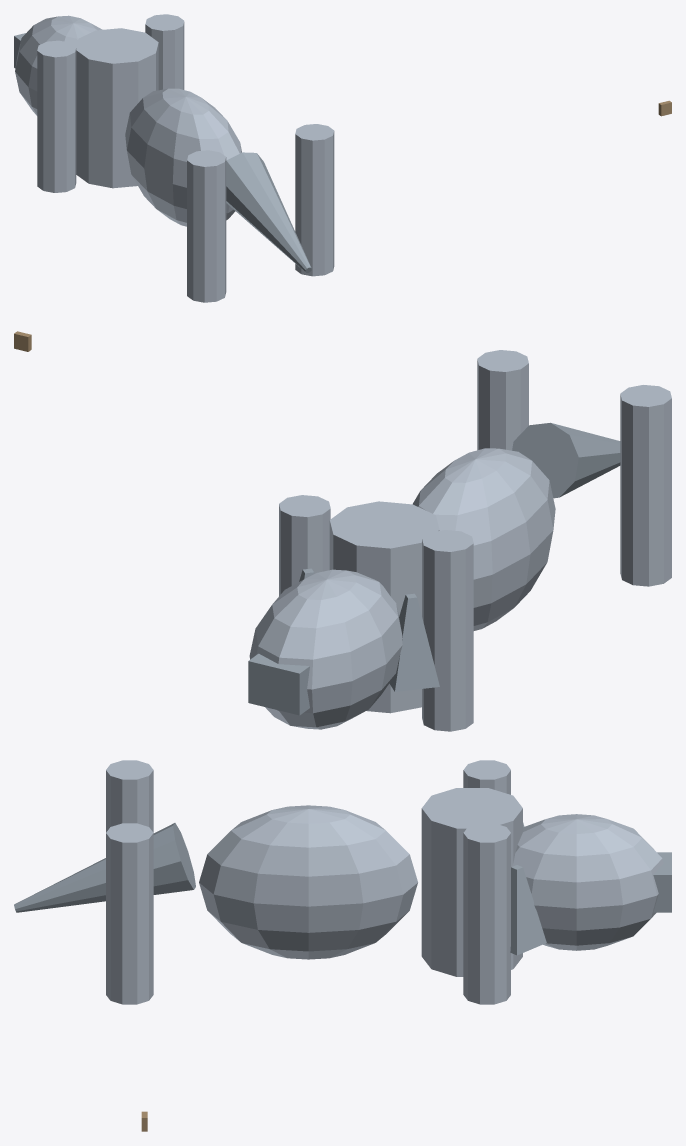
Rendered from animal_kyma.glb.
The picture shows the model from 3 angles, top to bottom: view 1: azimuth 30°, elevation 25°; view 2: azimuth 150°, elevation 25°; view 3: azimuth 270°, elevation 25°; orthographic projection. The views are drawn at different scales.
Visible parts, largest first — view 1: kyma_neck.002, kyma_body.002, kyma_leg_FL.002, kyma_leg_BL.002, kyma_leg_BR.002, kyma_tail.002, kyma_head.002, kyma_leg_FR.002; view 2: kyma_head.002, kyma_body.002, kyma_leg_BL.002, kyma_leg_FL.002, kyma_neck.002, kyma_tail.002, kyma_leg_BR.002, kyma_leg_FR.002, kyma_mukon.002, kyma_telinga_l.002; view 3: kyma_body.002, kyma_head.002, kyma_neck.002, kyma_leg_BR.002, kyma_leg_FR.002, kyma_tail.002, kyma_leg_BL.002, kyma_telinga_r.002, kyma_leg_FL.002, kyma_mukon.002.
Part boxes in pixels (bbox=[...]): kyma_neck.002: bbox=[76, 28, 158, 188]; kyma_body.002: bbox=[125, 88, 241, 226]; kyma_leg_FL.002: bbox=[37, 40, 76, 192]; kyma_leg_BL.002: bbox=[187, 150, 226, 302]; kyma_leg_BR.002: bbox=[295, 124, 334, 276]; kyma_tail.002: bbox=[226, 152, 311, 272]; kyma_head.002: bbox=[15, 15, 102, 115]; kyma_leg_FR.002: bbox=[145, 14, 184, 90]; kyma_head.002: bbox=[249, 569, 402, 729]; kyma_body.002: bbox=[413, 448, 555, 630]; kyma_leg_BL.002: bbox=[620, 385, 671, 586]; kyma_leg_FL.002: bbox=[422, 530, 473, 731]; kyma_neck.002: bbox=[329, 501, 439, 713]; kyma_tail.002: bbox=[512, 422, 620, 498]; kyma_leg_BR.002: bbox=[477, 350, 528, 450]; kyma_leg_FR.002: bbox=[279, 495, 330, 595]; kyma_mukon.002: bbox=[248, 653, 309, 715]; kyma_telinga_l.002: bbox=[389, 593, 439, 691]; kyma_body.002: bbox=[199, 805, 417, 959]; kyma_head.002: bbox=[512, 814, 663, 950]; kyma_neck.002: bbox=[421, 788, 522, 976]; kyma_leg_BR.002: bbox=[106, 823, 153, 1004]; kyma_leg_FR.002: bbox=[463, 823, 510, 1004]; kyma_tail.002: bbox=[14, 823, 195, 912]; kyma_leg_BL.002: bbox=[106, 760, 153, 832]; kyma_telinga_r.002: bbox=[510, 865, 546, 955]; kyma_leg_FL.002: bbox=[463, 760, 510, 794]; kyma_mukon.002: bbox=[653, 852, 671, 912].
Size of the model in its own units: 2.25 by 0.6 by 2.21.
